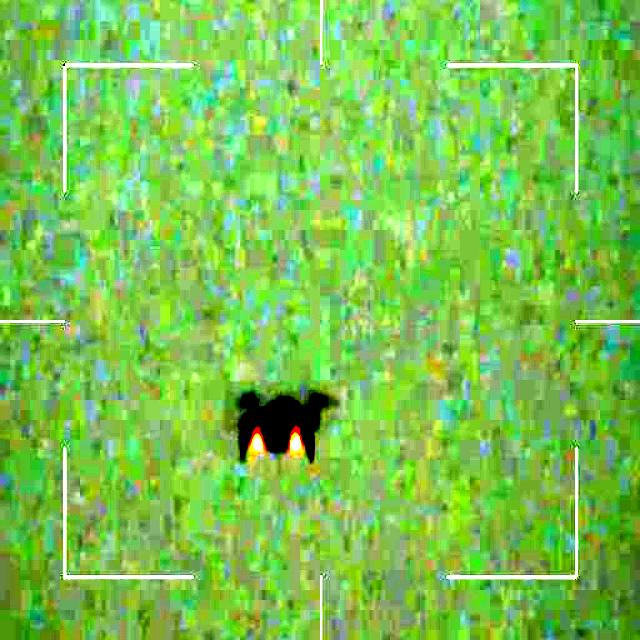bird: (235, 388, 331, 460)
